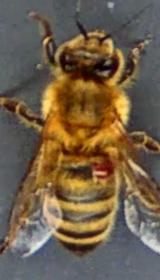varroa_mite: (88, 153, 122, 186)
